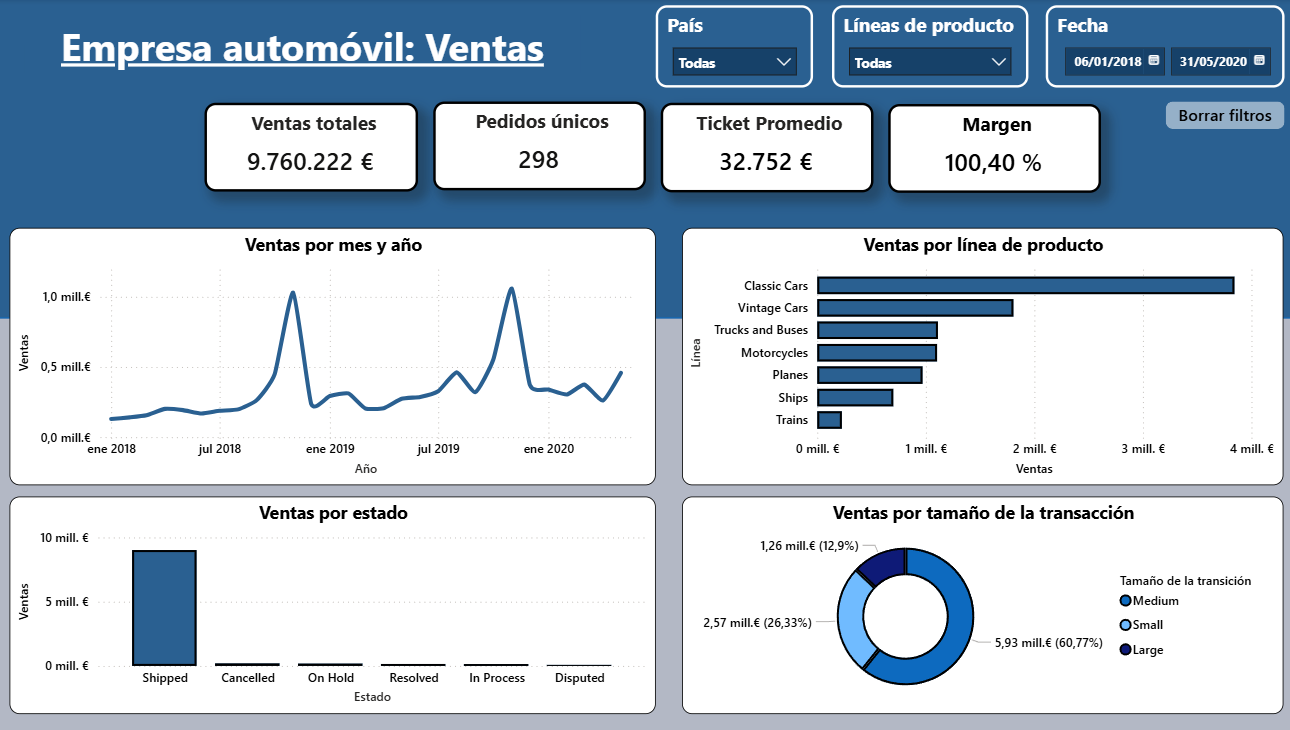

The page's visual inventory and layout, read from the dashboard file:
{"tool":"powerbi","page":{"name":"Ventas","canvas":[1280,720],"ordinal":0},"visuals":[{"type":"cardVisual","title":"Ventas totales","fields":{"Data":["coches_limpio.ventas totales"]},"box":[177.9,115.1,209.2,87.6],"z":0},{"type":"shape","box":[0,0,1280.3,313.5],"z":1000},{"type":"cardVisual","title":"Pedidos únicos","fields":{"Data":["coches_limpio.pedidos_cantidad"]},"box":[433.1,101,208.6,87.1],"z":2000},{"type":"lineChart","title":"Ventas por mes y año","fields":{"Y":["Sum(coches_limpio.sales)"],"Category":["coches_limpio.order_date.Variación.Jerarquía de fechas.Año","coches_limpio.order_date.Variación.Jerarquía de fechas.Mes"]},"box":[17.2,224.5,634.4,252.8],"z":3000},{"type":"clusteredBarChart","title":"Ventas por línea de producto","fields":{"Y":["Sum(coches_limpio.sales)"],"Category":["coches_limpio.product_line"]},"box":[677.3,224.5,590.2,252.8],"z":4000},{"type":"cardVisual","title":"Ticket Promedio","fields":{"Data":["coches_limpio.Ticket_promedio"]},"box":[656.4,101.4,208.6,88.3],"z":5000},{"type":"donutChart","title":"Ventas por tamaño de la transacción","fields":{"Y":["Sum(coches_limpio.sales)"],"Category":["coches_limpio.deal_size"]},"box":[677.3,488.3,590.2,213.5],"z":6000},{"type":"clusteredColumnChart","title":"Ventas por estado","fields":{"Y":["Sum(coches_limpio.sales)"],"Category":["coches_limpio.status"]},"box":[17.2,488.3,634.4,213.5],"z":7000},{"type":"cardVisual","title":"Margen","fields":{"Data":["coches_limpio.Margen"]},"box":[879.8,103.1,208.6,87.1],"z":8000},{"type":"slicer","title":"Líneas de producto","fields":{"Values":["coches_limpio.product_line"]},"box":[824.5,6.1,192.6,81],"z":9000},{"type":"slicer","title":"Fecha","fields":{"Values":["coches_limpio.order_date"]},"box":[1034.4,6.1,234.4,81],"z":10000},{"type":"slicer","title":"País","fields":{"Values":["coches_limpio.country"]},"box":[651.5,6.1,154.6,81],"z":11000},{"type":"textbox","box":[32.3,15.4,545.6,72.2],"z":12000},{"type":"cardVisual","title":"Ventas totales","fields":{"Data":["coches_limpio.ventas totales"]},"box":[208.6,101.8,209.8,87.1],"z":13000},{"type":"actionButton","box":[1152.2,100.6,116.6,27],"z":14000}]}

Visuals, with their boxes in screenshot pixels (x1, y1, x2, y2), scaled from the page's 1280x720 canvas onto the 1290x730 screenshot:
"Ventas totales" cardVisual: [left=179, top=117, right=390, bottom=206]
shape: [left=0, top=0, right=1289, bottom=318]
"Pedidos únicos" cardVisual: [left=436, top=102, right=647, bottom=191]
"Ventas por mes y año" lineChart: [left=17, top=228, right=657, bottom=484]
"Ventas por línea de producto" clusteredBarChart: [left=683, top=228, right=1277, bottom=484]
"Ticket Promedio" cardVisual: [left=662, top=103, right=872, bottom=192]
"Ventas por tamaño de la transacción" donutChart: [left=683, top=495, right=1277, bottom=712]
"Ventas por estado" clusteredColumnChart: [left=17, top=495, right=657, bottom=712]
"Margen" cardVisual: [left=887, top=105, right=1097, bottom=193]
"Líneas de producto" slicer: [left=831, top=6, right=1025, bottom=88]
"Fecha" slicer: [left=1042, top=6, right=1279, bottom=88]
"País" slicer: [left=657, top=6, right=812, bottom=88]
textbox: [left=33, top=16, right=582, bottom=89]
"Ventas totales" cardVisual: [left=210, top=103, right=422, bottom=192]
actionButton: [left=1161, top=102, right=1279, bottom=129]
